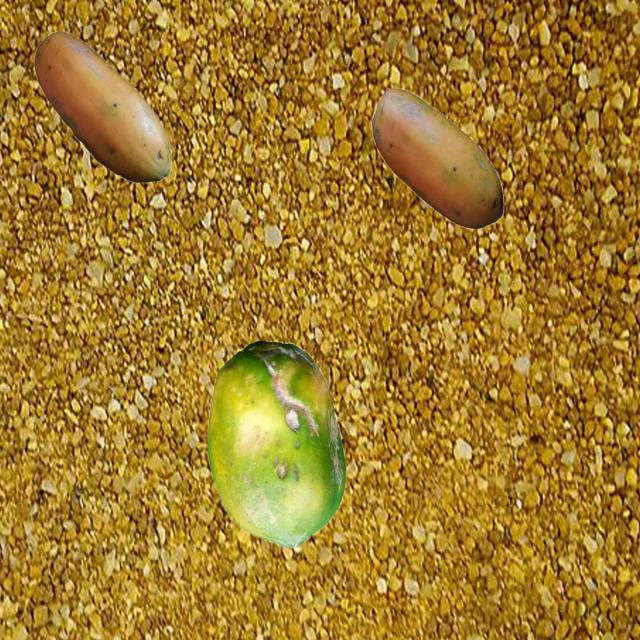Pepaya rippen: (202, 327, 358, 554), (32, 31, 197, 193), (356, 69, 512, 238)
